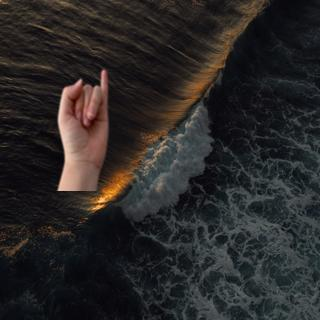Fine: (52, 67, 115, 181)
